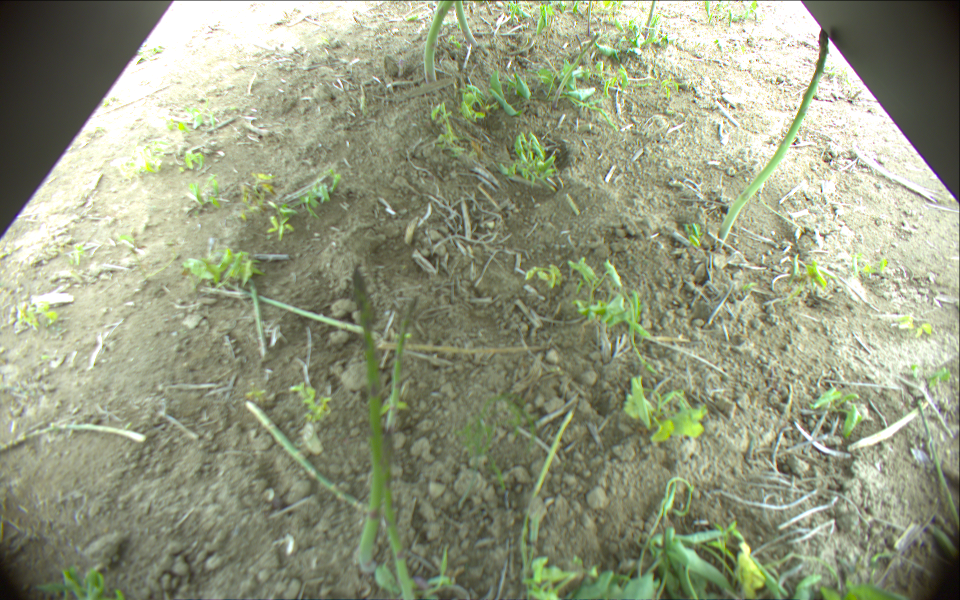aspa: (715, 24, 832, 247), (246, 401, 372, 519), (521, 403, 579, 593), (350, 268, 386, 574), (242, 289, 379, 342), (377, 429, 419, 600), (1, 421, 145, 458), (386, 295, 419, 431), (423, 1, 454, 84), (243, 275, 269, 358), (454, 1, 480, 46), (644, 1, 656, 42), (586, 1, 593, 35), (485, 1, 495, 16)
